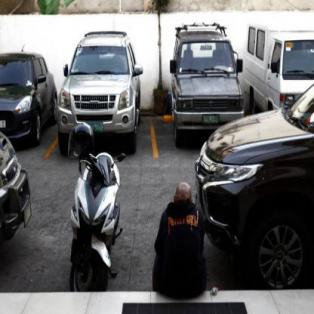Motocicleta: (63, 134, 127, 292)
